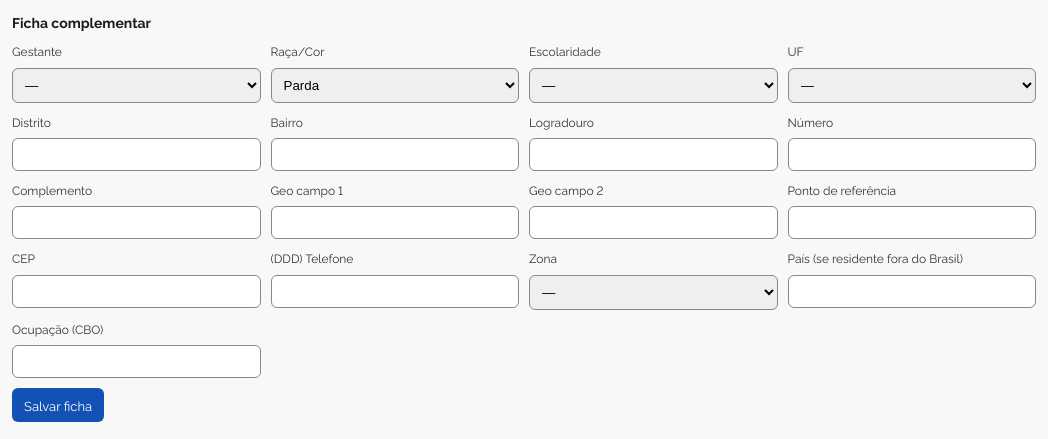
Test: NotificationFormSection › confere antes de enviar: nada vai, a frase leva o rótulo e o foco vai ao campo
Type "1310100" into the field labelled "CEP" at (136, 291), box [12,275,260,308]
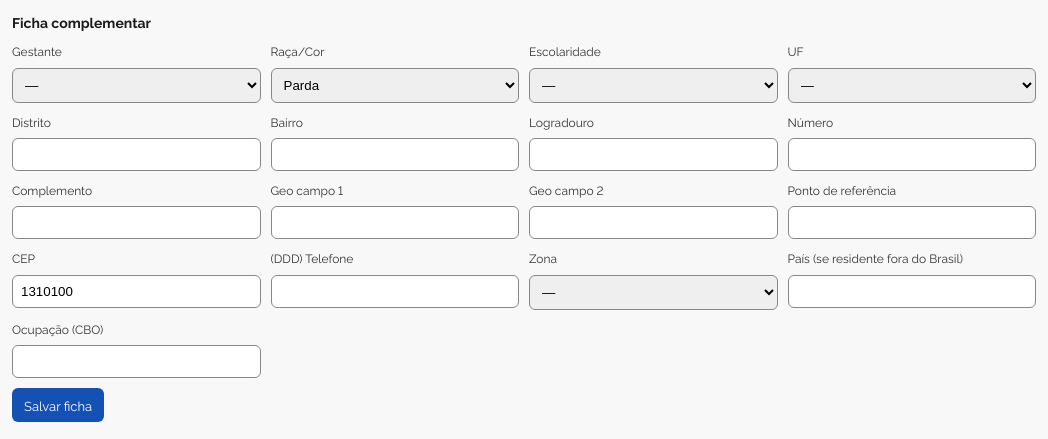
Click the button "Salvar ficha" at (58, 405), box [12,388,104,422]
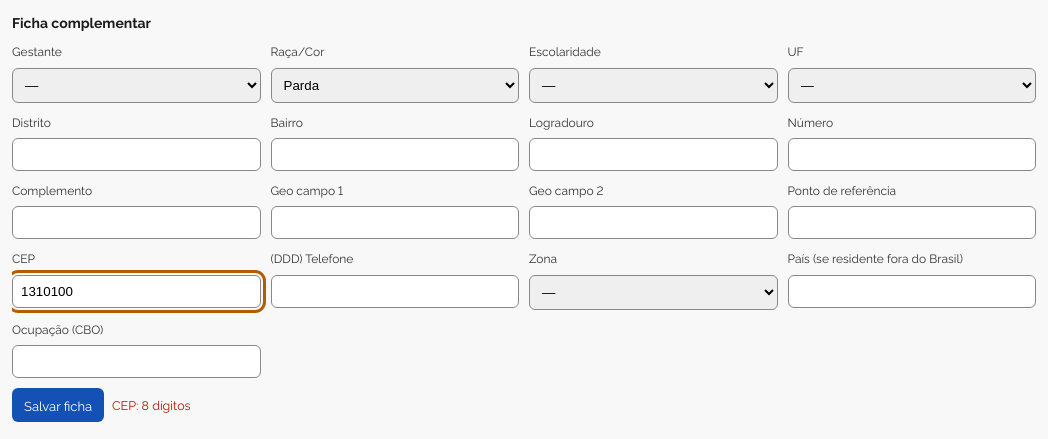
Expected: the message reads "CEP: 8 dígitos", [112,396,191,413]
